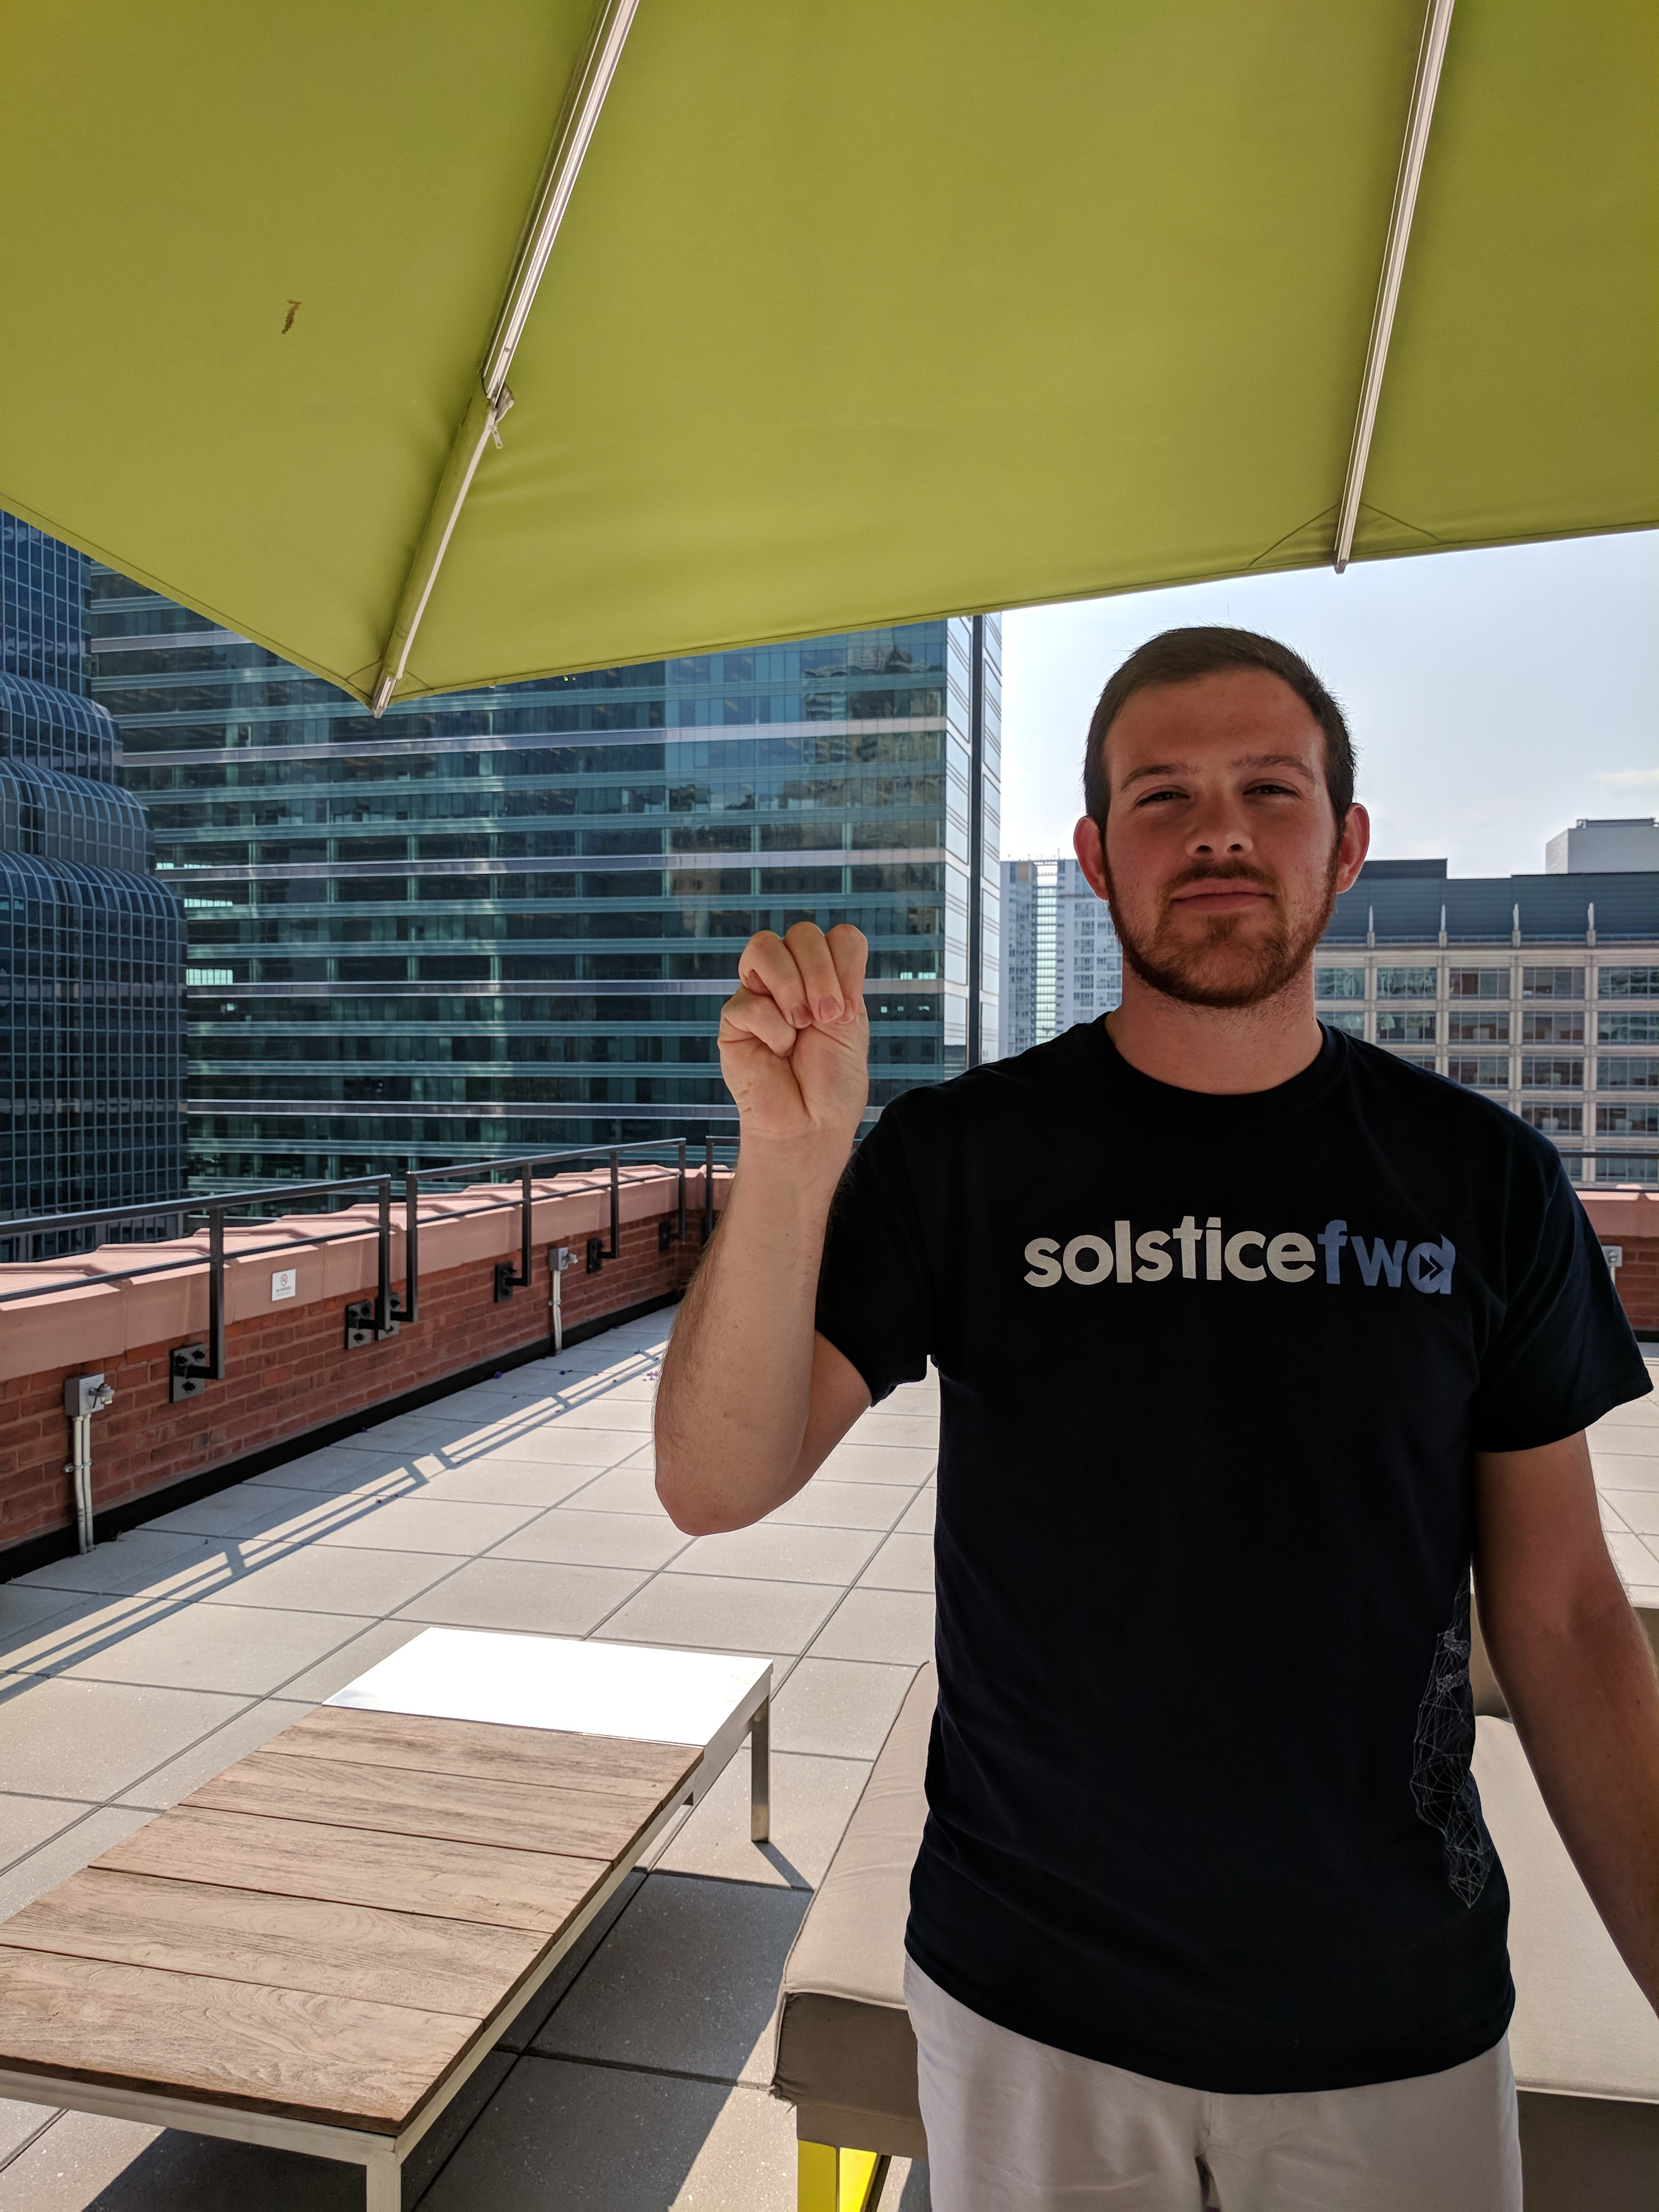m: (711, 916, 899, 1148)
